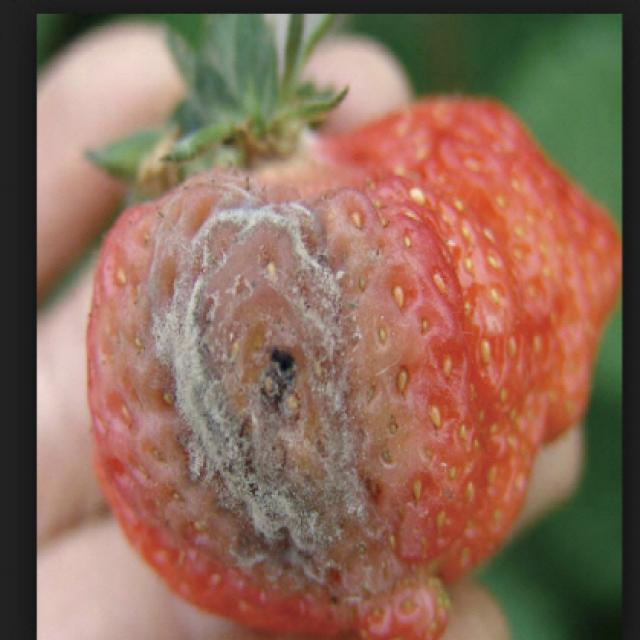Gray Mold: (87, 130, 497, 638)
